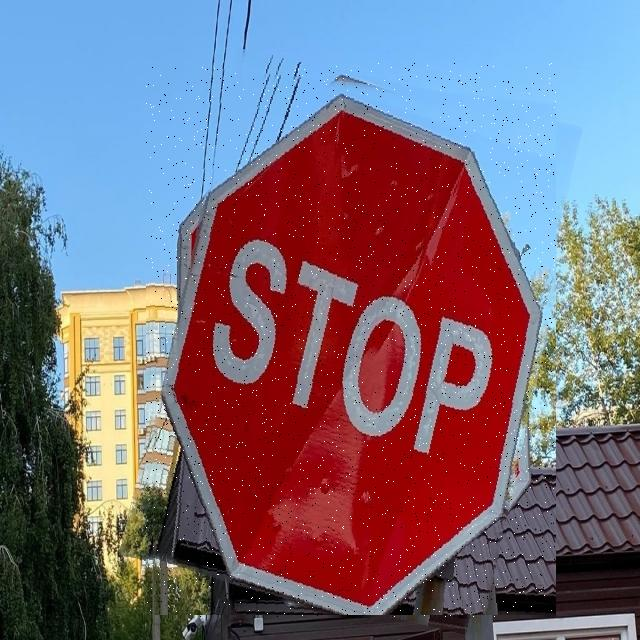stop: (146, 63, 556, 618)
